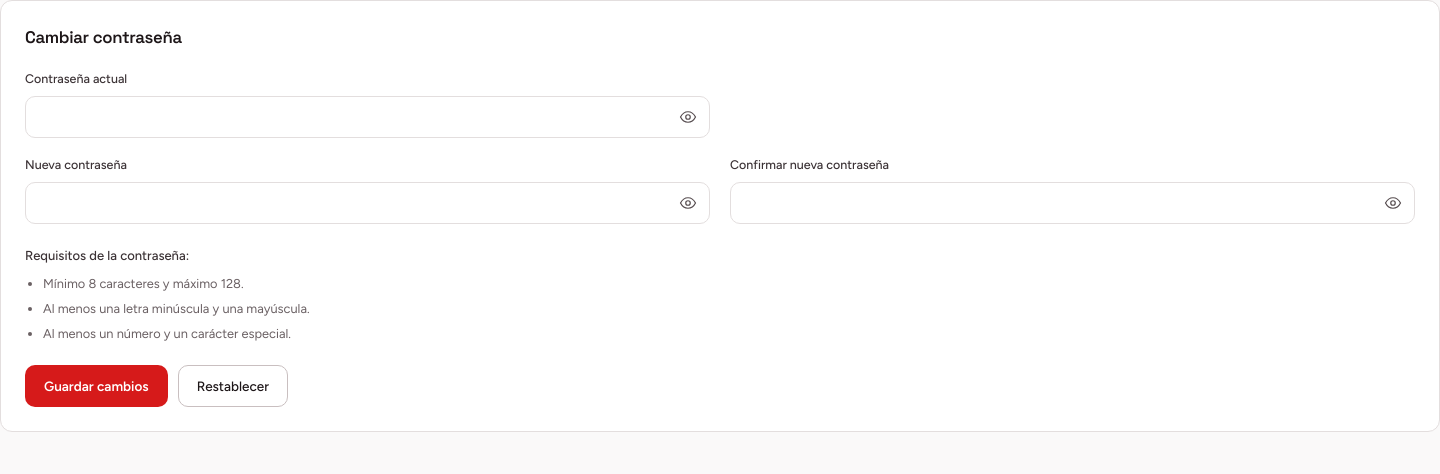
Scenario: ChangePasswordForm › rejects a short password and explains the policy
Type "Current1!" into the password field labelled "Contraseña actual" at (368, 117), box [25, 96, 710, 138]
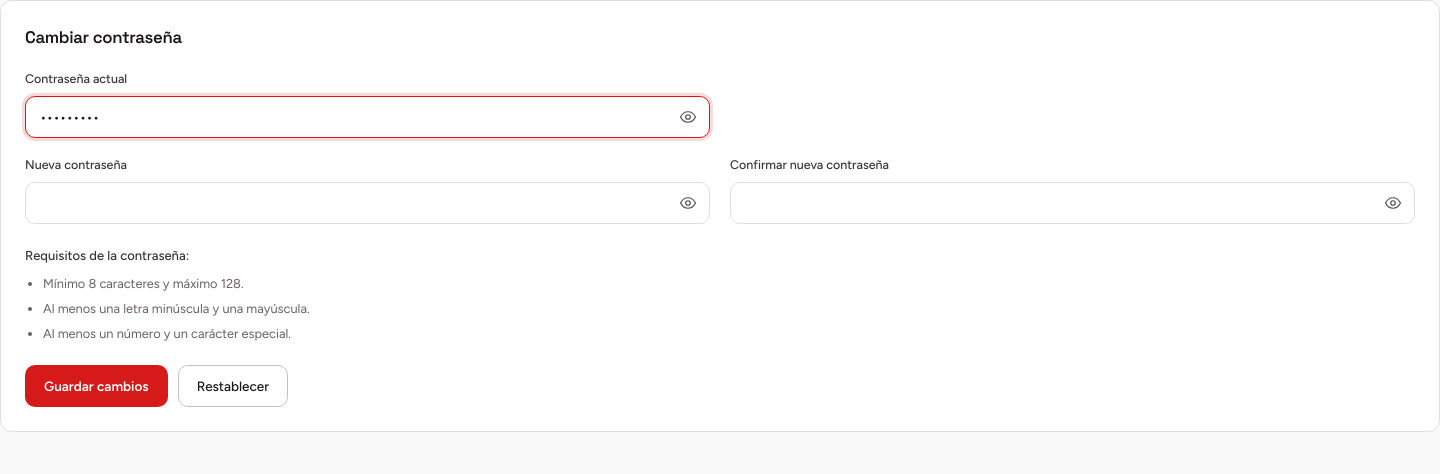
Type "Ab1!xyz" into the password field labelled "Nueva contraseña" at (368, 203), box [25, 182, 710, 224]
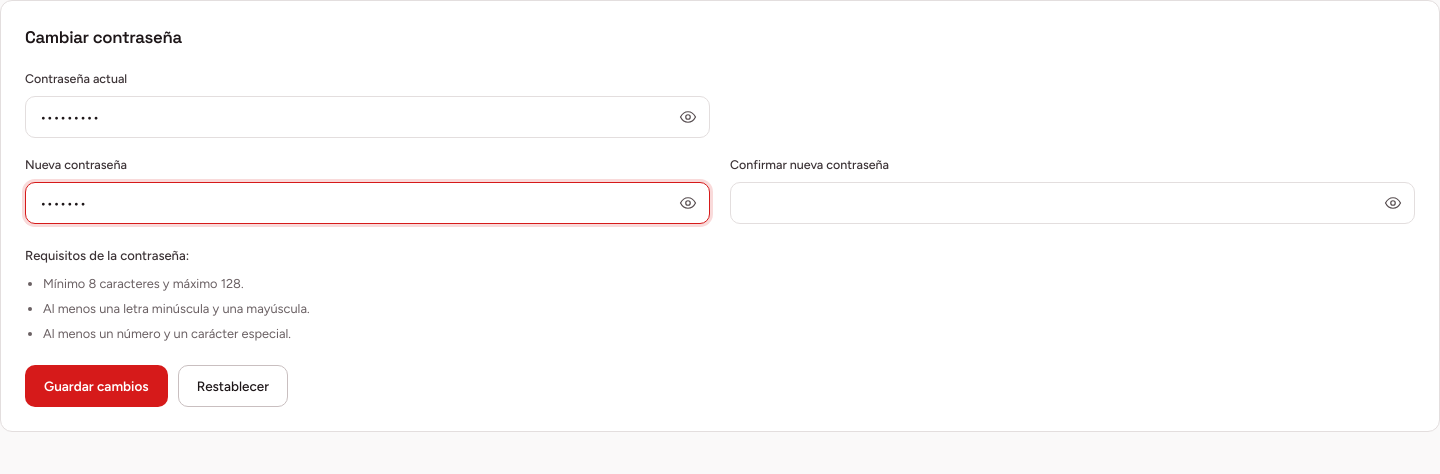
Type "Ab1!xyz" into the password field labelled "Confirmar nueva contraseña" at (1072, 203), box [730, 182, 1415, 224]
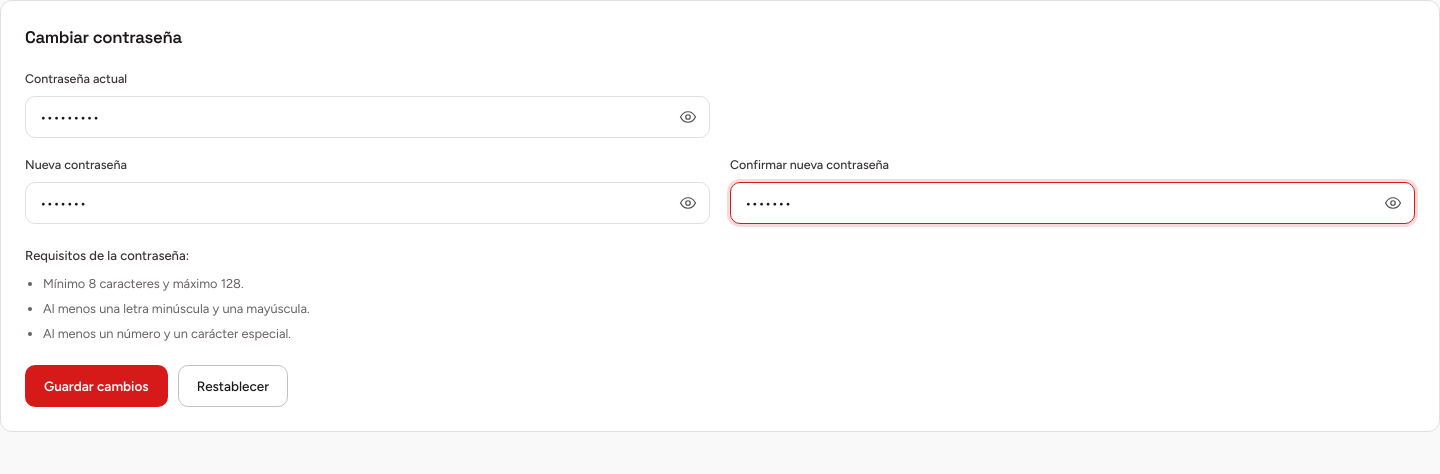
Click the button "Guardar cambios" at (96, 386), box [25, 365, 168, 407]
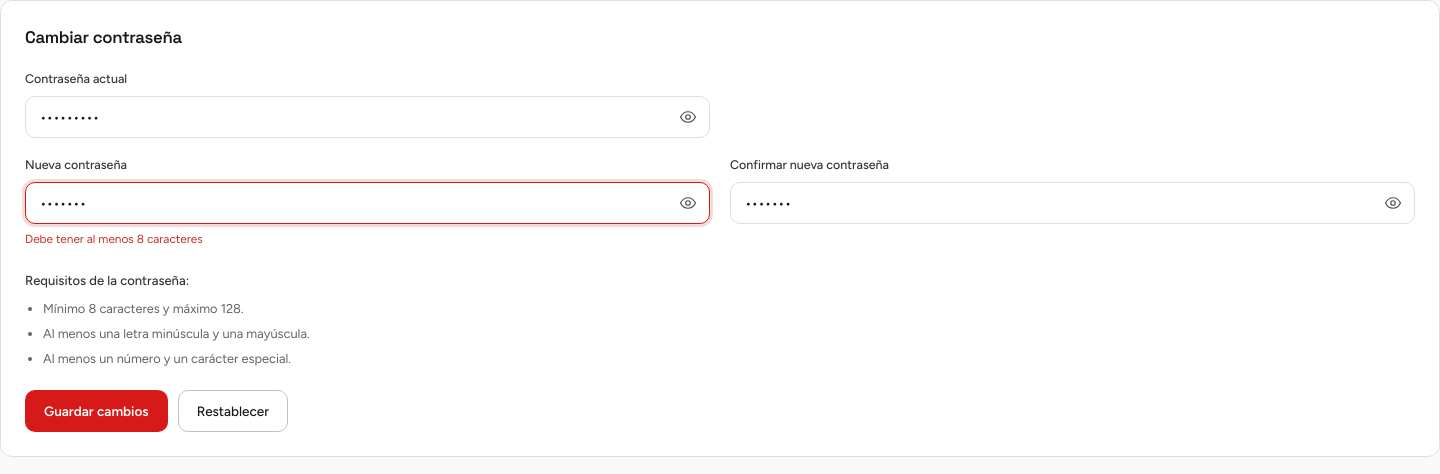
Check: the text "Debe tener al menos 8 caracteres" is shown, box [25, 232, 203, 246]
